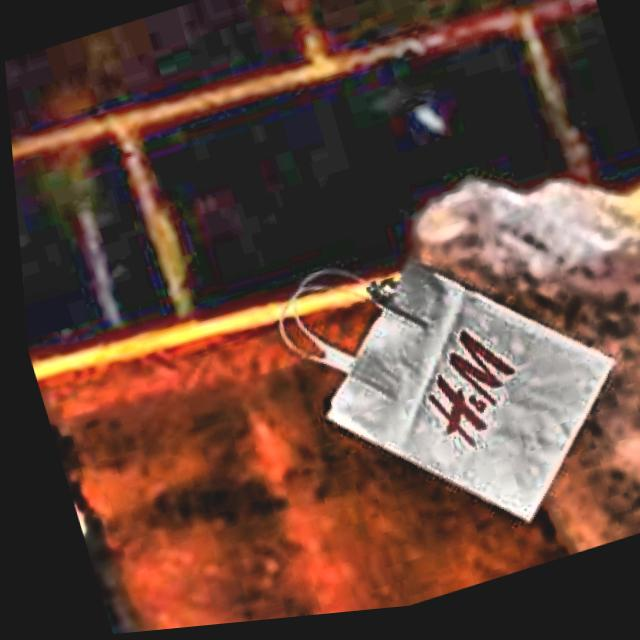Paper-bag: (241, 189, 640, 603)
